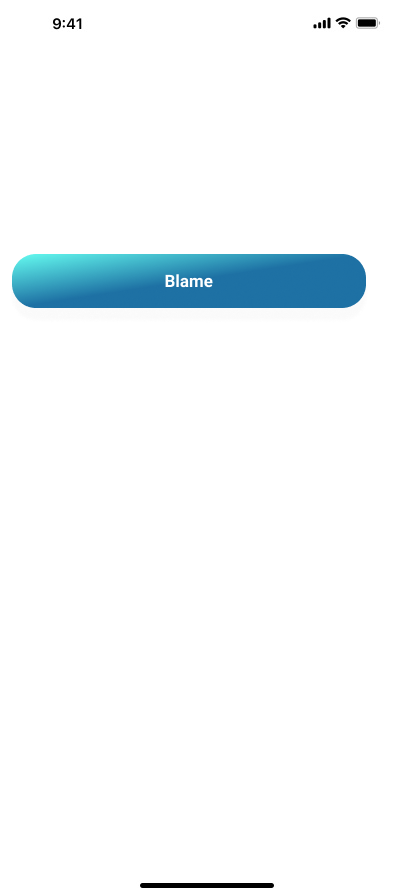Buttons: (8, 254, 374, 324)
Home Indicator: (0, 862, 414, 896)
Status Bar: (0, 0, 414, 44)
